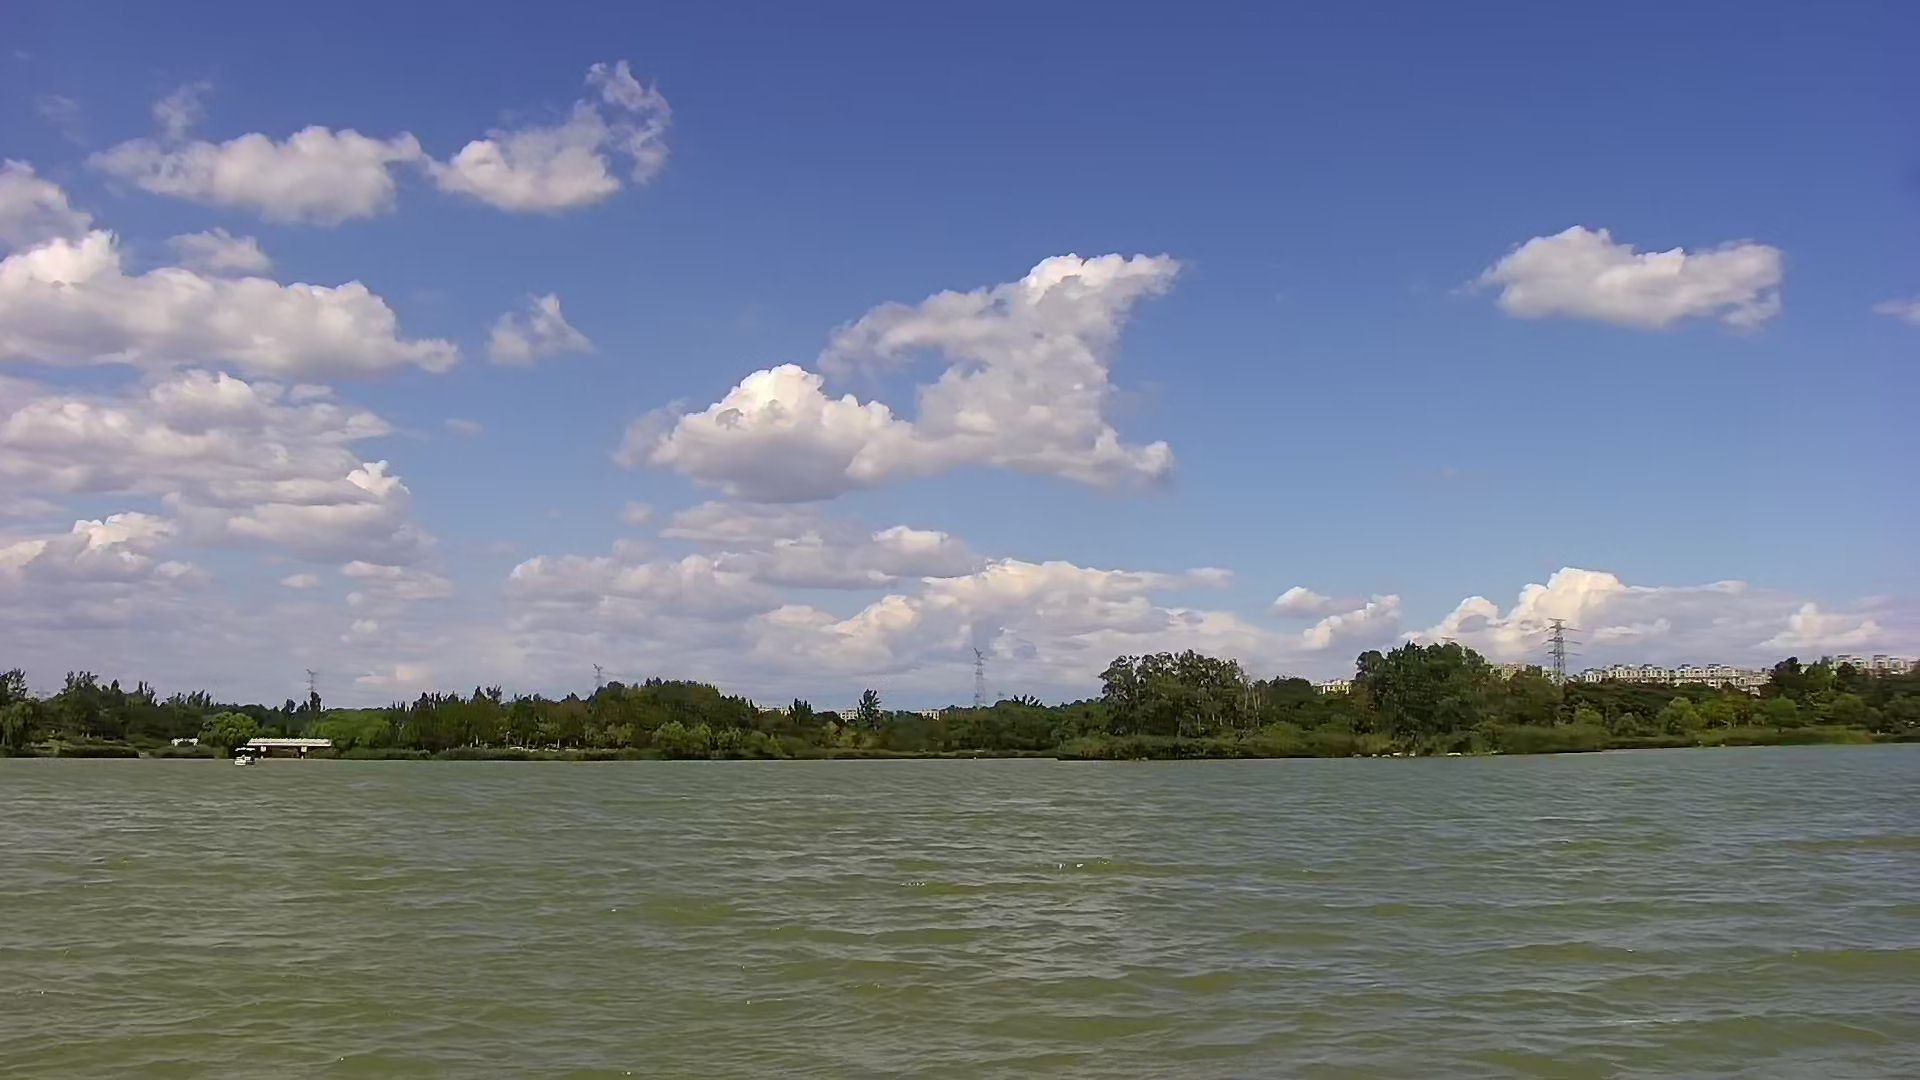bridge: (243, 732, 347, 760)
